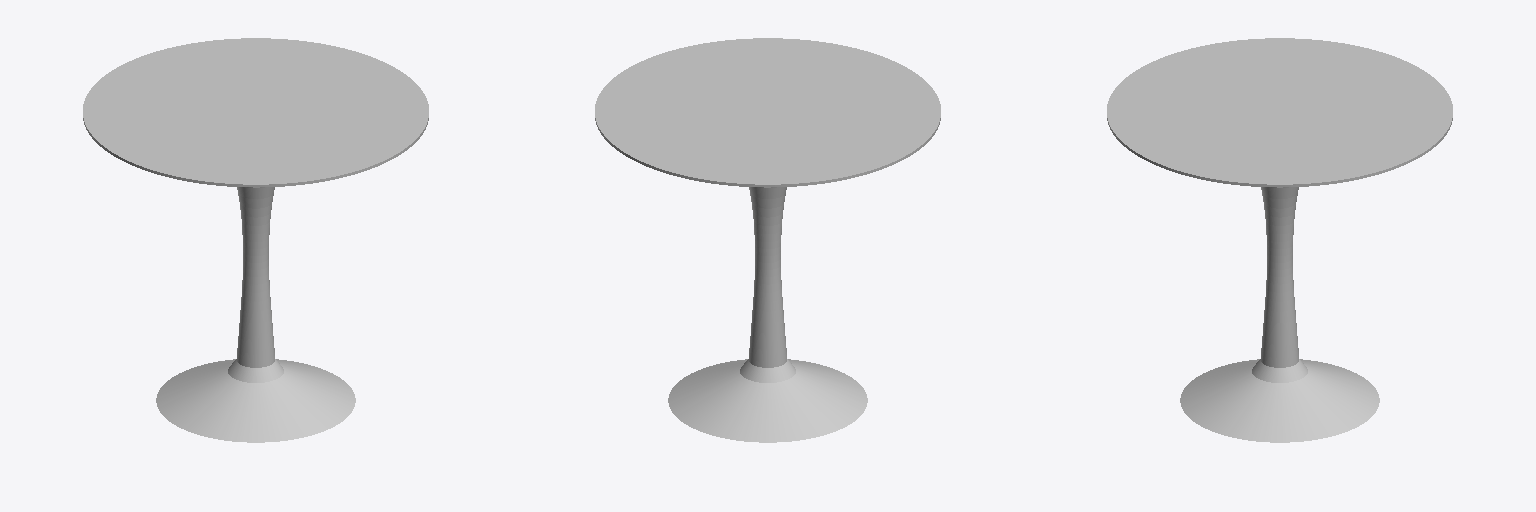
Rendered from Langfang.obj.
3 views of the same model, side by side, from view 1: azimuth 30°, elevation 25°; view 2: azimuth 150°, elevation 25°; view 3: azimuth 270°, elevation 25° (orthographic).
Visible parts, largest first — view 1: Cylinder_Cylinder.002; view 2: Cylinder_Cylinder.002; view 3: Cylinder_Cylinder.002.
Part boxes in pixels (x1,y1,x2,y2): Cylinder_Cylinder.002: (83, 38, 428, 442); Cylinder_Cylinder.002: (595, 38, 940, 442); Cylinder_Cylinder.002: (1107, 38, 1452, 442).
Bounding box in the file's own units: 1.6 × 1.47 × 1.6.